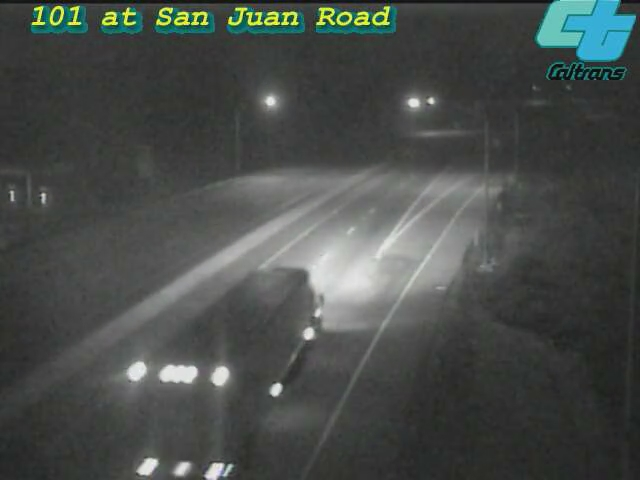vehicle: (191, 298, 301, 408)
